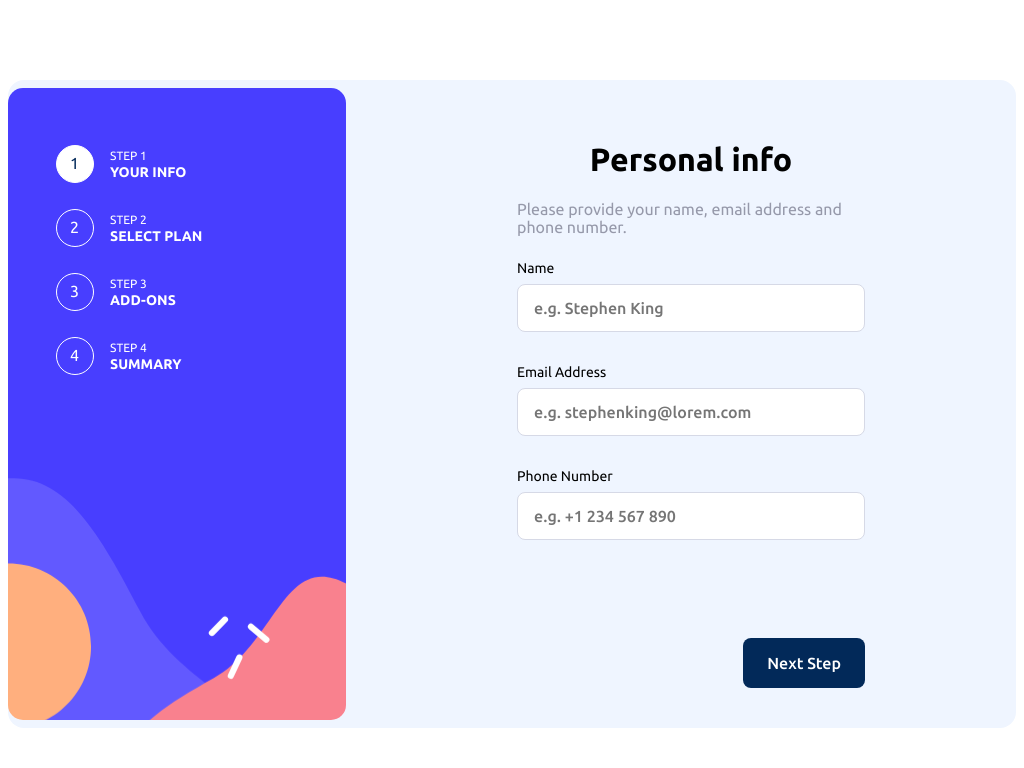
moves to step 2 if all fields are valid
This screenshot has width=1024, height=768.
Type "Stephen King" into the field labelled "Name".
click(691, 308); type("Stephen King")  # box top-left (517, 284), bottom-right (865, 332)
Press Tab
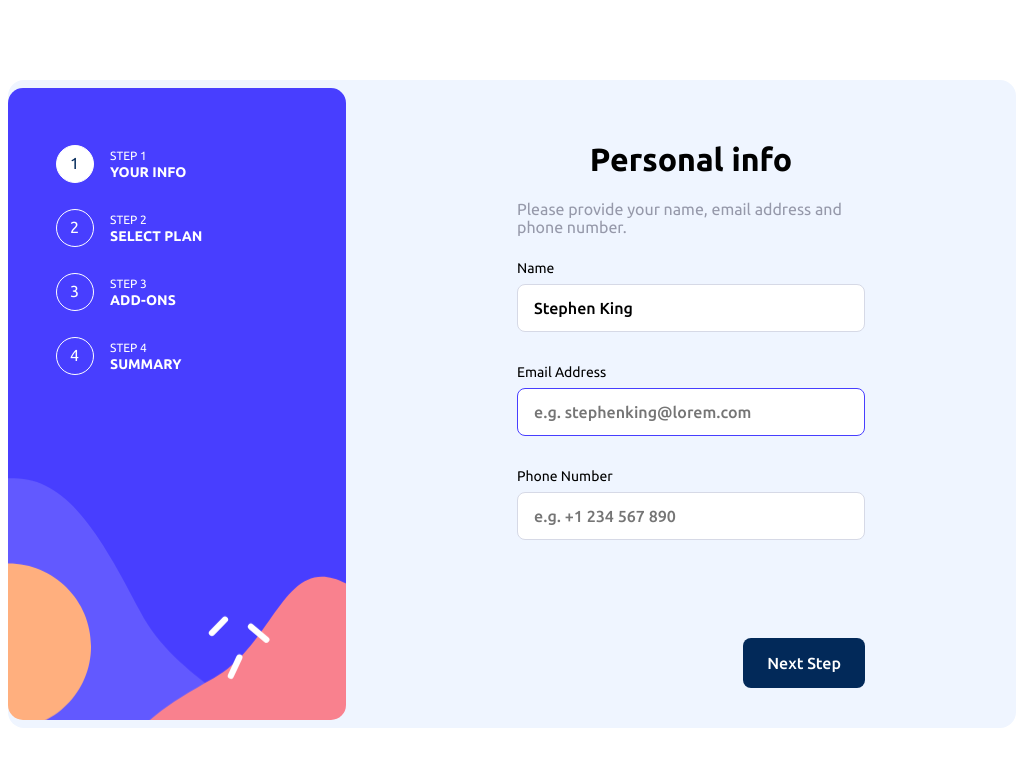
Type "stephenking@lorem.com" into the field labelled "Email Address".
click(691, 412); type("stephenking@lorem.com")  # box top-left (517, 388), bottom-right (865, 436)
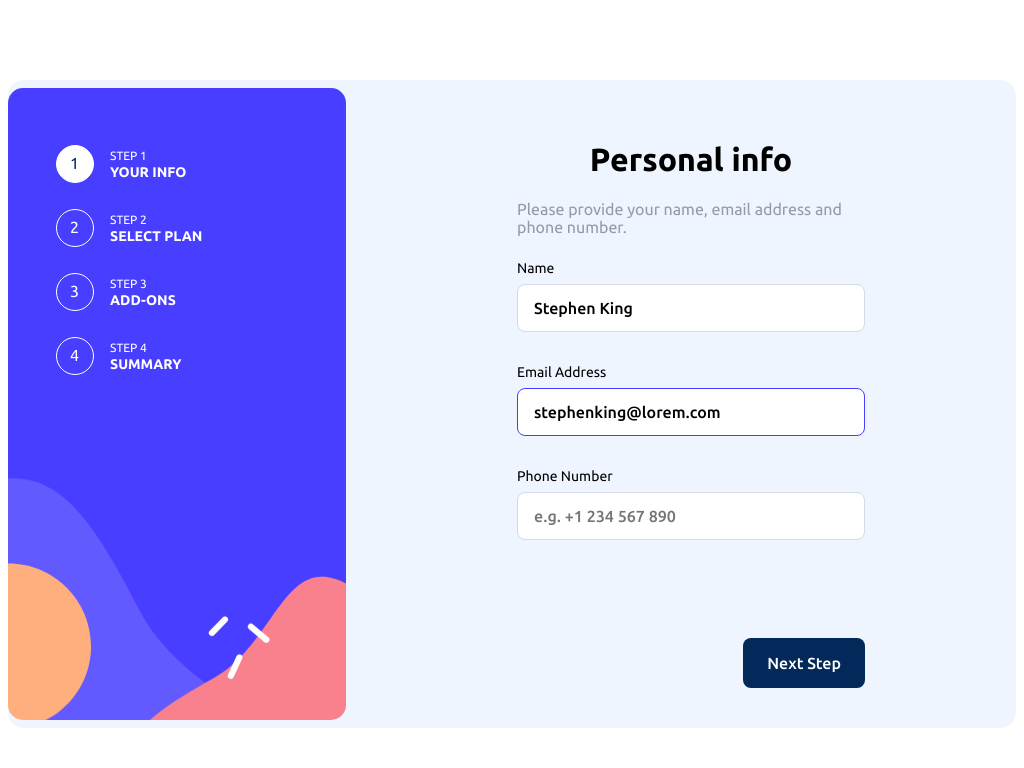
Press Tab
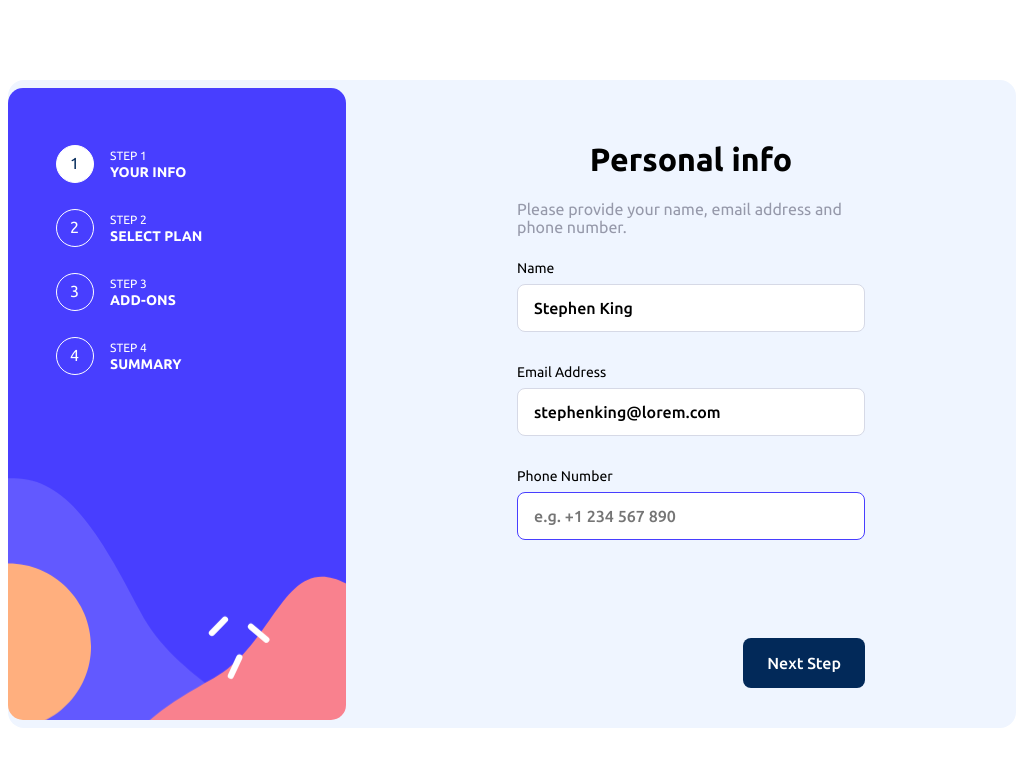
Type "+1 234 567 890" into the field labelled "Phone Number".
click(691, 516); type("+1 234 567 890")  # box top-left (517, 492), bottom-right (865, 540)
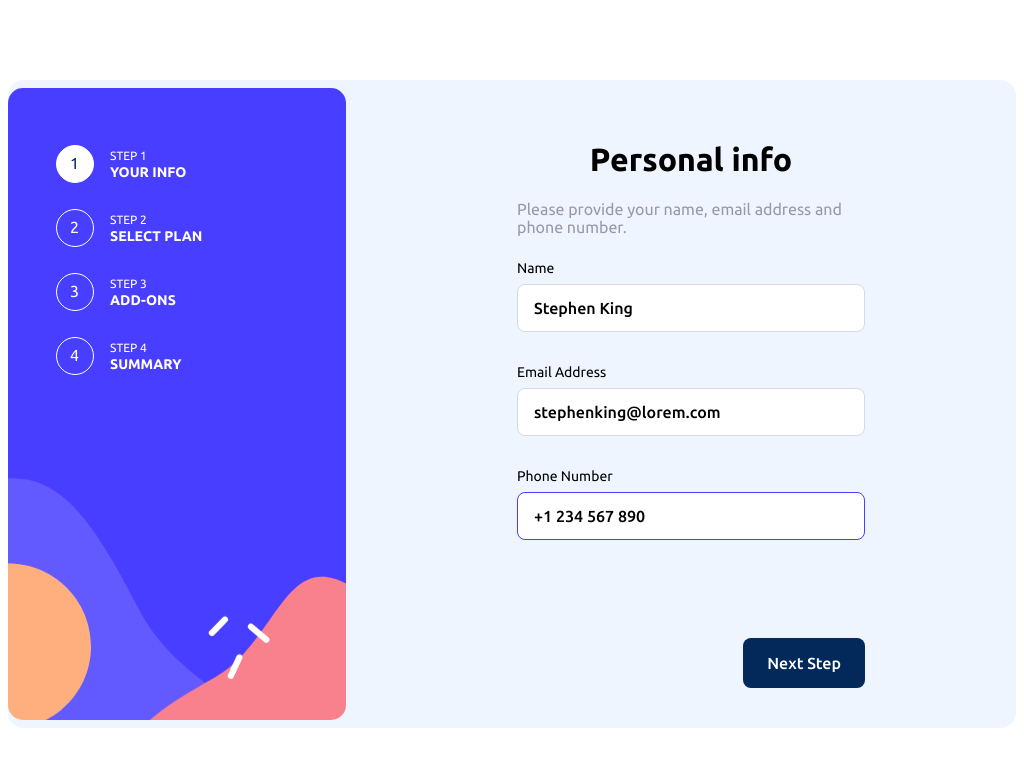
Press Tab
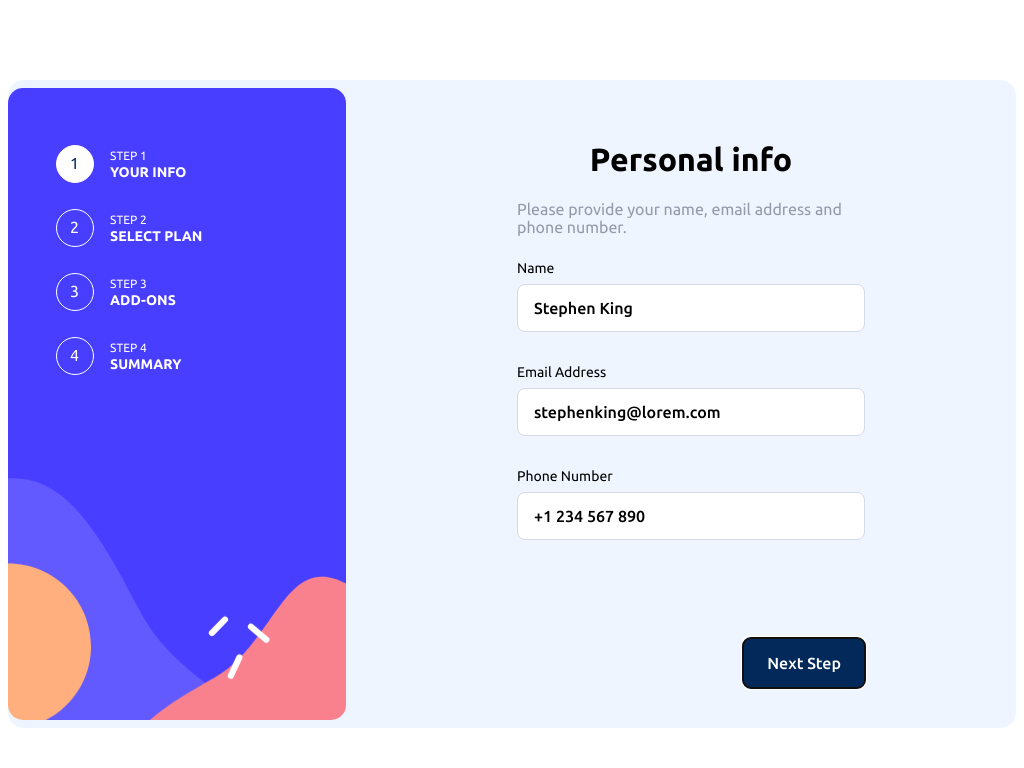
Click the button "Next Step".
click(804, 663)  # box top-left (743, 638), bottom-right (865, 688)
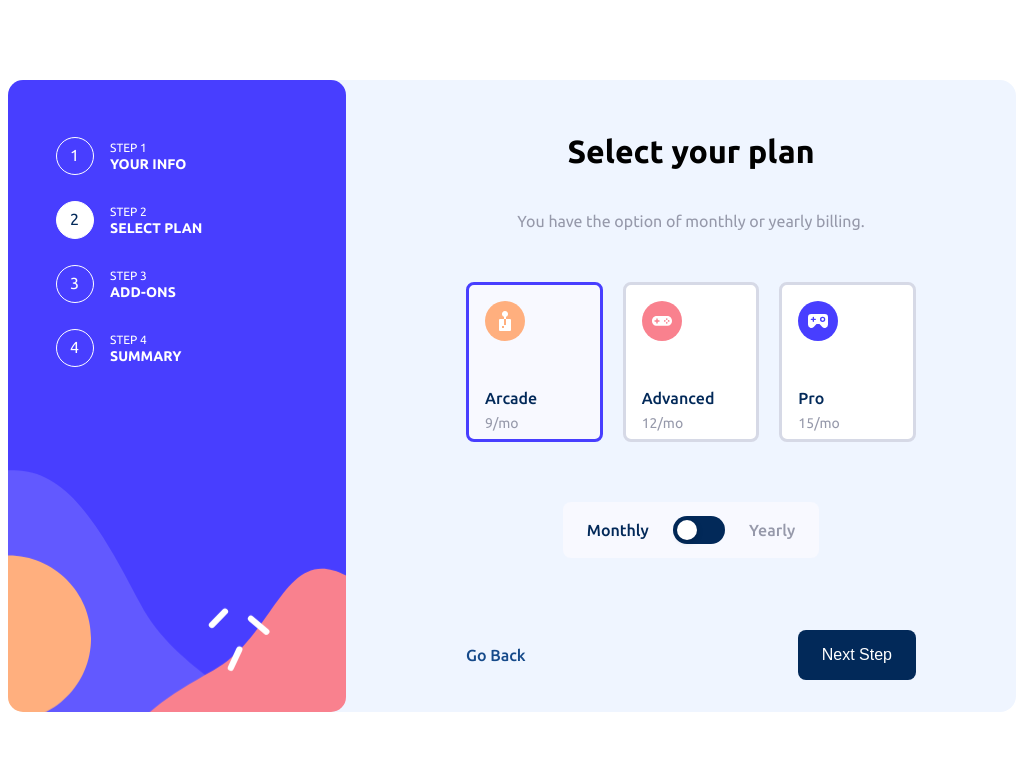
Check: the heading "Select your plan" is shown, box top-left (568, 133), bottom-right (814, 170)
Check: the text "You have the option of monthly or yearly billing." is shown, box top-left (517, 212), bottom-right (865, 230)
Check: the text "Arcade" is shown, box top-left (485, 389), bottom-right (537, 407)
